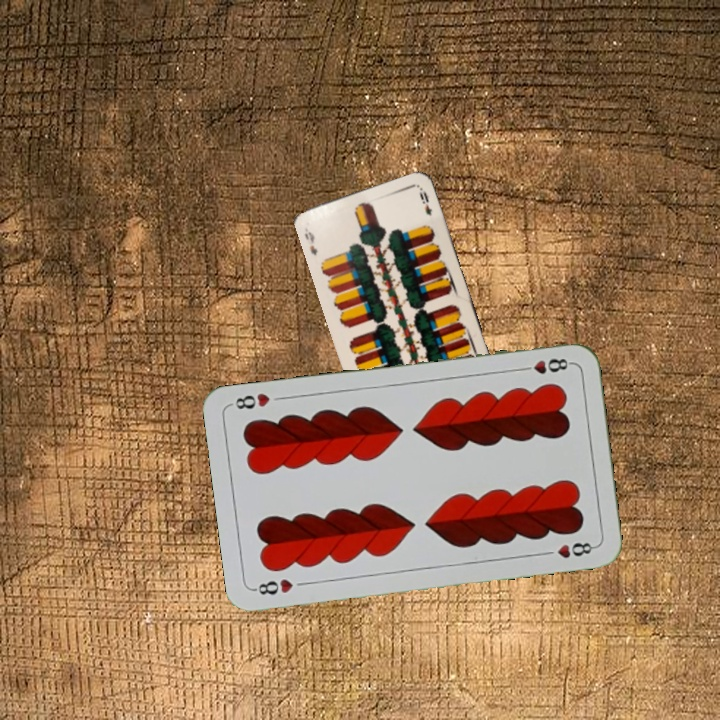E9: (300, 227, 320, 258)
H8: (515, 354, 574, 377), (250, 574, 295, 598)
